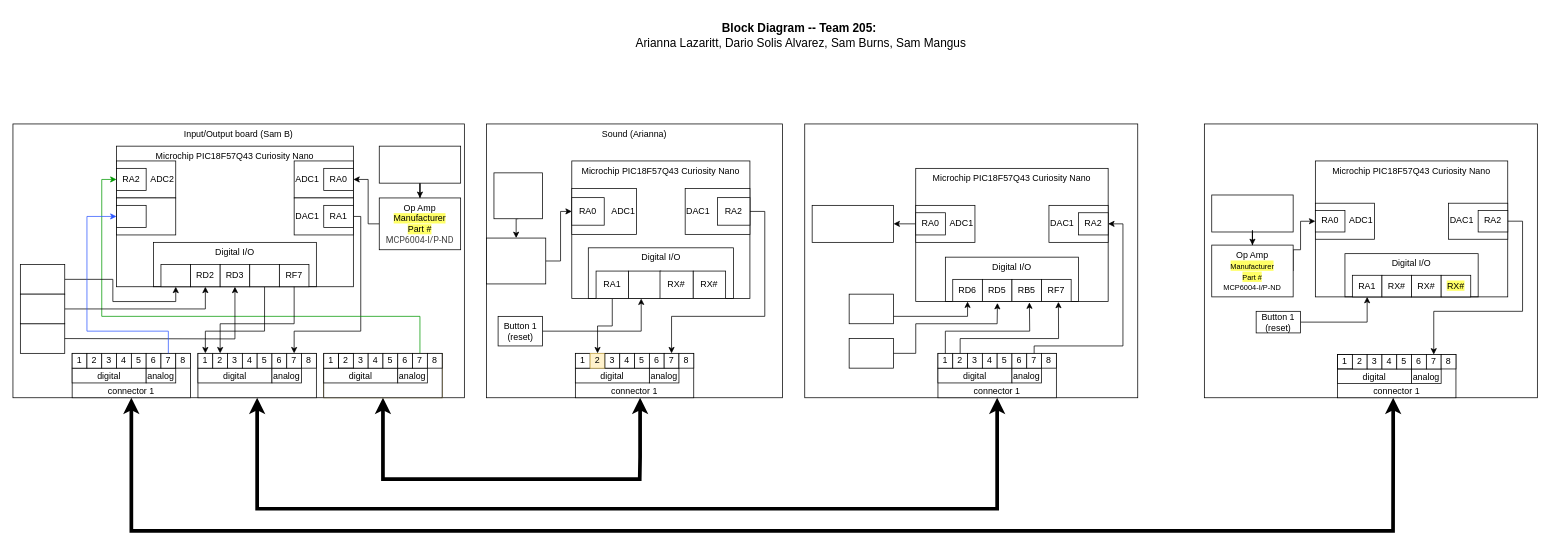
Image size: 1550x552. Some labels were removed from this diagram. Here are the shapes that lost their labels. From the top down, the box of each, then its label:
(379, 145, 461, 183): Potentiometer Manufacturer Part #P160KN2
(493, 172, 542, 219): Microphone RS Americas 7542100
(1211, 194, 1293, 232): Ultrasonic sensor Manufacturer Part # SEN-15569
(116, 205, 146, 228): RB0
(116, 197, 176, 235): ADC3
(811, 205, 894, 242): RGB LED
(20, 264, 65, 294): Button 1 (ON/OFF)
(160, 264, 191, 287): RD1
(249, 264, 279, 287): RF6
(486, 237, 546, 284): Op Amp Microchip MCP6004-I/P-ND
(804, 123, 1138, 398): Lights (Dario)
(1204, 123, 1537, 398): motion(Sam M)
(628, 270, 661, 299): RB2
(20, 293, 65, 324): Button 2 (Mode)
(848, 293, 894, 324): Button 1 (Override ON/OFF)
(20, 323, 65, 353): Button 3 (reset)
(848, 338, 894, 368): Button 2 (reset)
(197, 353, 316, 398): connector 2
(323, 353, 442, 398): connector 3
